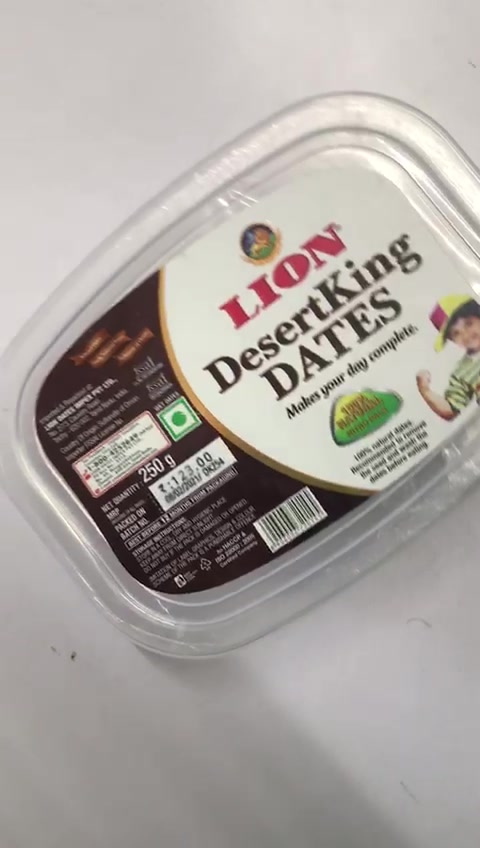Lion dates: (4, 94, 480, 655)
